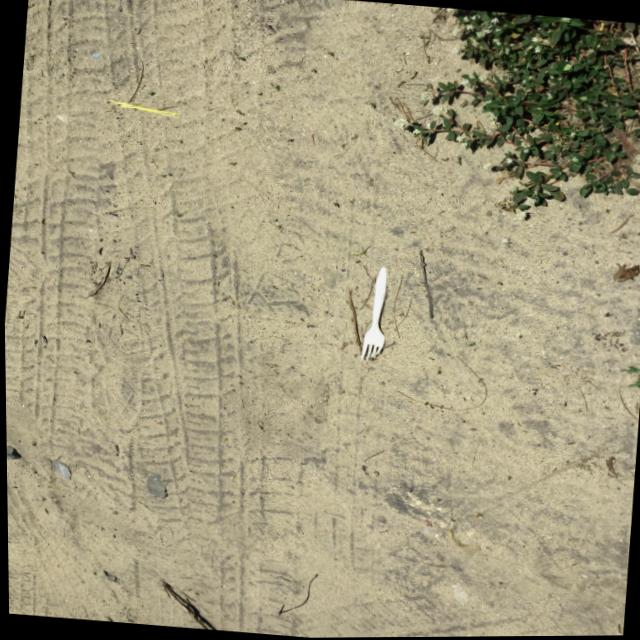Plastic: (352, 257, 402, 366)
